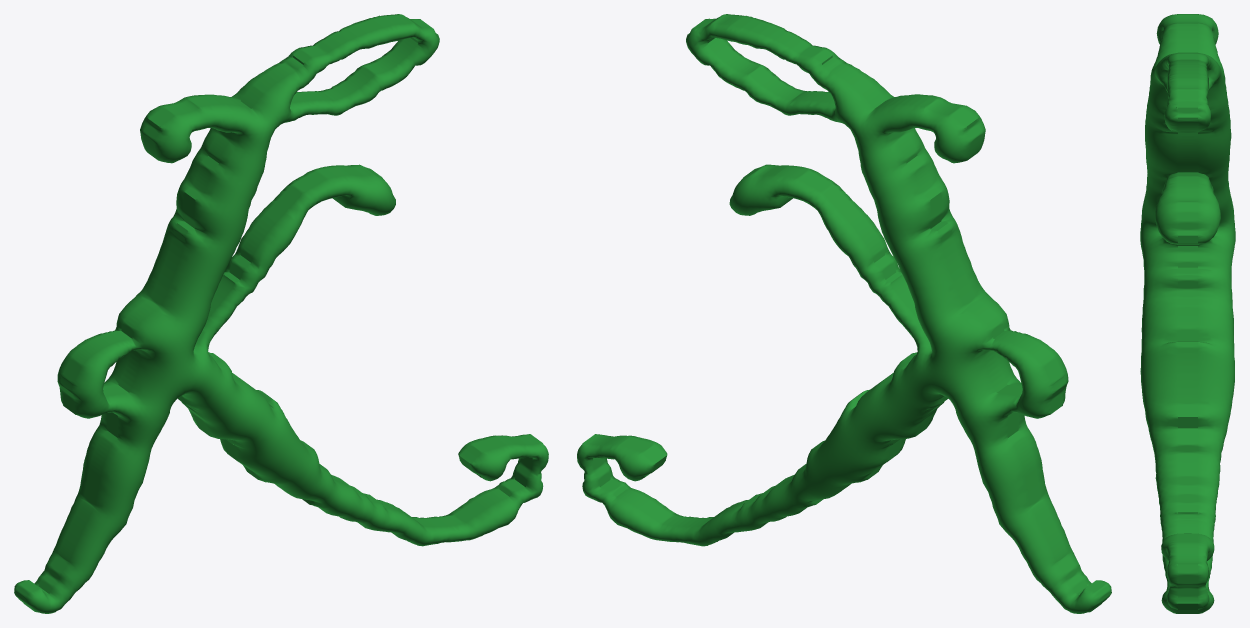
3 renders of one model, left to right at view 1: azimuth 30°, elevation 25°; view 2: azimuth 150°, elevation 25°; view 3: azimuth 270°, elevation 25°, orthographic. The views are drawn at different scales.
Visible parts, largest first — view 1: Mesh_2.002; view 2: Mesh_2.002; view 3: Mesh_2.002.
Boxes of the visible parts, x1,y1,x2,y2 form: Mesh_2.002: (14,14,548,613); Mesh_2.002: (577,14,1111,613); Mesh_2.002: (1140,14,1235,613).
Size of the model in its own units: 0.0971 by 0.0947 by 0.0166.
